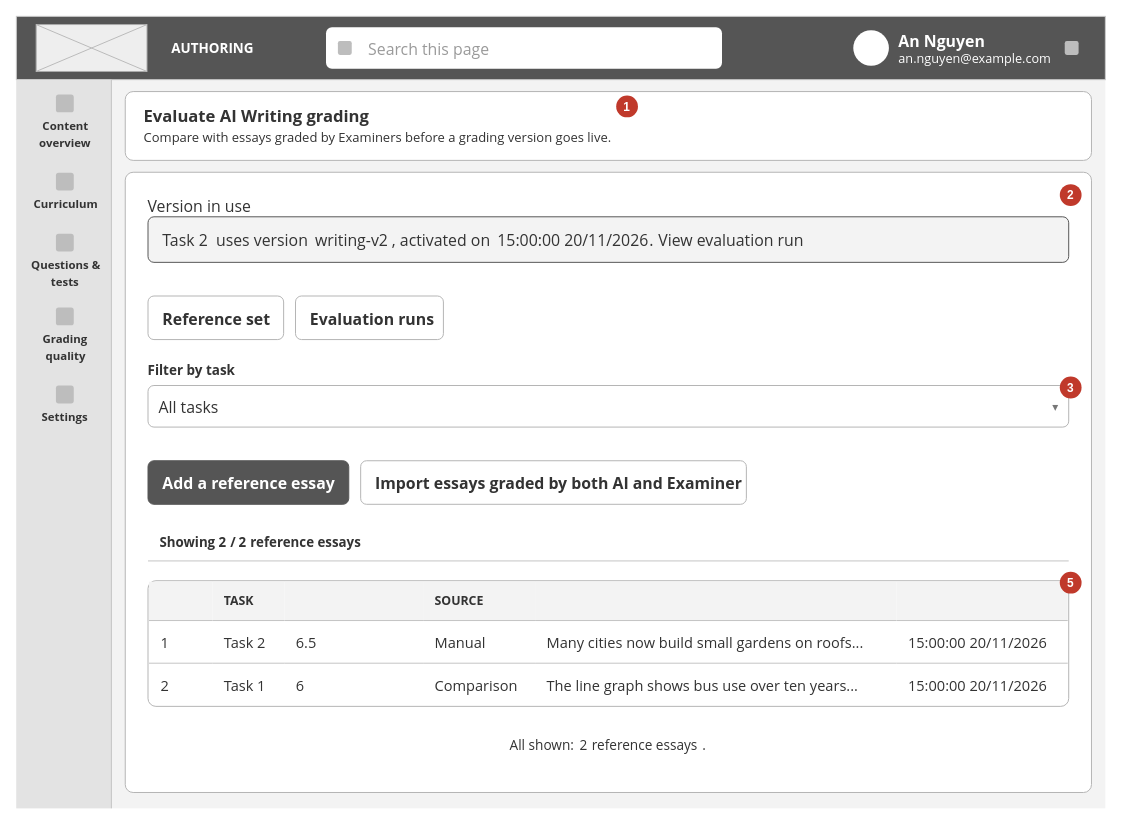
Some shapes in this 1122 by 825 pixel diagram are drawn without their labels. The shapes that lost their labels are listed below. From the top down, each one's box as (x1, y1, x2, y2) in pixels, then its label:
(853, 30, 888, 65): AN
(148, 581, 212, 620): NO.
(284, 581, 423, 620): EXAMINER BAND
(535, 581, 896, 620): ESSAY START
(896, 581, 1067, 620): ADDED
